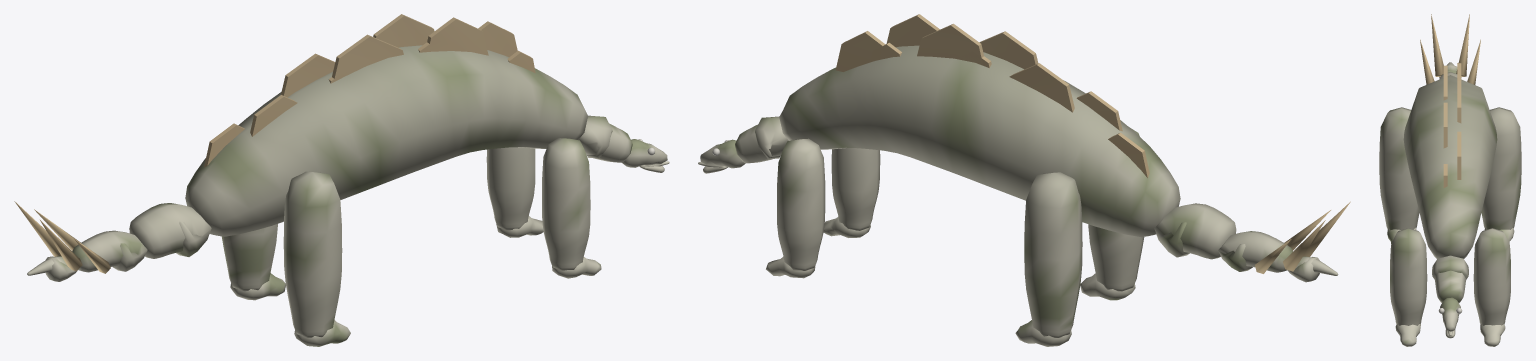
File: stego.glb
3 renders of one model, left to right at view 1: azimuth 30°, elevation 25°; view 2: azimuth 150°, elevation 25°; view 3: azimuth 270°, elevation 25°, orthographic. The views are drawn at different scales.
Parts seen in each view (by area): view 1: bodym, legmBR, legmFR, legmFL, tailm1, legmBL, tailm2, neckm, platesm50L, platesm78L, platesm64R, platesm36R (+10 smaller); view 2: bodym, legmBL, legmFL, legmFR, tailm1, legmBR, tailm2, neckm, platesm64R, platesm36R, platesm50L, platesm92R (+10 smaller); view 3: bodym, legmBR, legmBL, legmFR, legmFL, neckm, headm, footmFR, footmFL, spikemL1, spikemR1, spikemL2 (+5 smaller).
Part boxes in pixels (x1,y1,x2,y2): bodym: (185, 45, 587, 236); legmBR: (283, 171, 342, 337); legmFR: (542, 138, 590, 270); legmFL: (486, 147, 535, 230); tailm1: (129, 203, 211, 258); legmBL: (221, 224, 277, 291); tailm2: (72, 230, 147, 272); neckm: (578, 115, 632, 162); platesm50L: (332, 34, 403, 79); platesm78L: (427, 17, 488, 55); platesm64R: (373, 14, 434, 47); platesm36R: (281, 53, 335, 97); bodym: (779, 45, 1180, 237); legmBL: (1024, 172, 1082, 337); legmFL: (777, 138, 825, 270); legmFR: (831, 148, 880, 230); tailm1: (1154, 203, 1236, 259); legmBR: (1088, 127, 1144, 291); tailm2: (1218, 231, 1292, 272); neckm: (735, 116, 788, 163); platesm64R: (917, 23, 983, 65); platesm36R: (1009, 63, 1074, 112); platesm50L: (979, 31, 1038, 69); platesm92R: (835, 31, 888, 71); bodym: (1403, 75, 1497, 258); legmBR: (1379, 107, 1419, 230); legmBL: (1481, 107, 1521, 229); legmFR: (1390, 228, 1427, 325); legmFL: (1473, 228, 1510, 325); neckm: (1432, 255, 1468, 302); headm: (1440, 297, 1460, 331); footmFR: (1395, 324, 1420, 346); footmFL: (1480, 324, 1505, 346); spikemL1: (1431, 14, 1443, 76); spikemR1: (1456, 14, 1469, 76); spikemL2: (1420, 39, 1434, 84).
Size of the model in its own units: 8.35 by 3.4 by 2.1.
